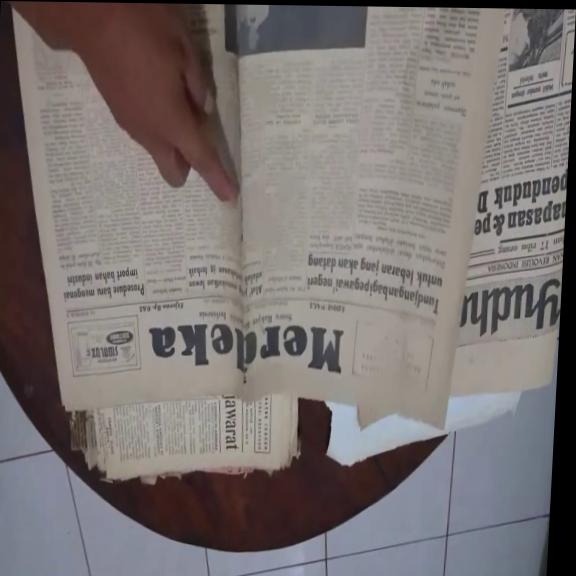Kertas: (218, 7, 500, 436), (0, 7, 276, 423), (452, 16, 575, 401)
